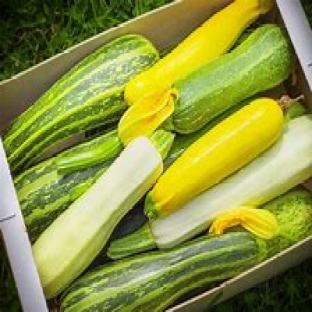Zucchini: (151, 115, 311, 247), (5, 35, 158, 171), (33, 137, 162, 298), (119, 25, 293, 143), (145, 98, 284, 218), (60, 233, 266, 311), (14, 130, 123, 242), (165, 99, 252, 168), (264, 188, 311, 256)
